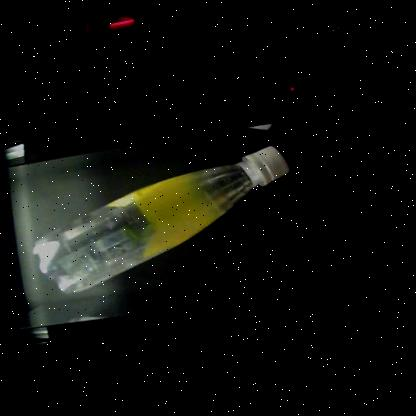Plastic Bottle: (32, 145, 290, 291)
